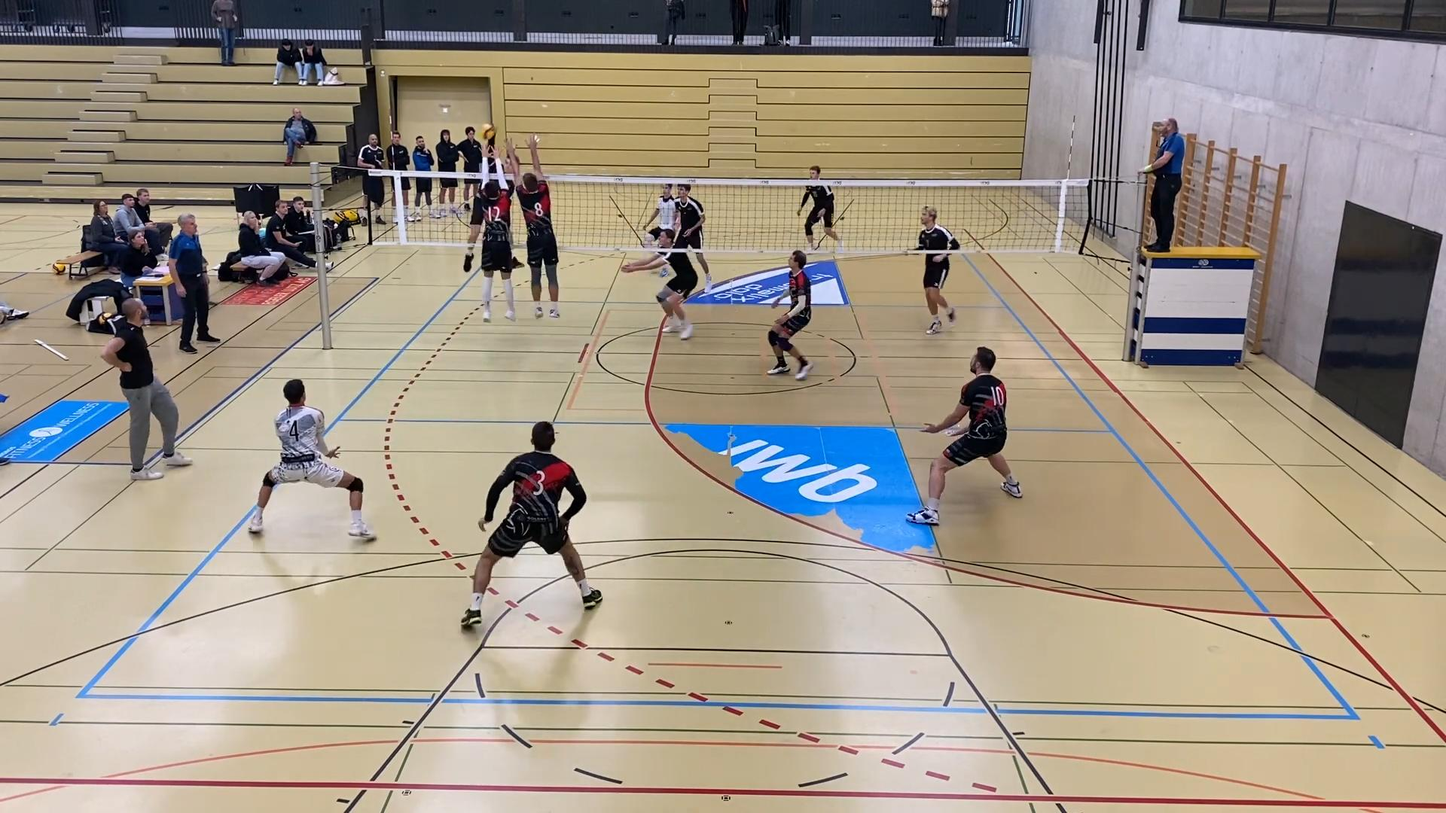Block: (506, 134, 569, 322), (469, 143, 523, 327)
Player: (461, 422, 602, 626), (907, 346, 1021, 524), (248, 380, 374, 539), (621, 230, 697, 340), (767, 251, 812, 380), (917, 207, 959, 334), (673, 184, 712, 291), (798, 165, 839, 250), (643, 184, 677, 246), (643, 184, 677, 239)
ball: (480, 122, 495, 140)
